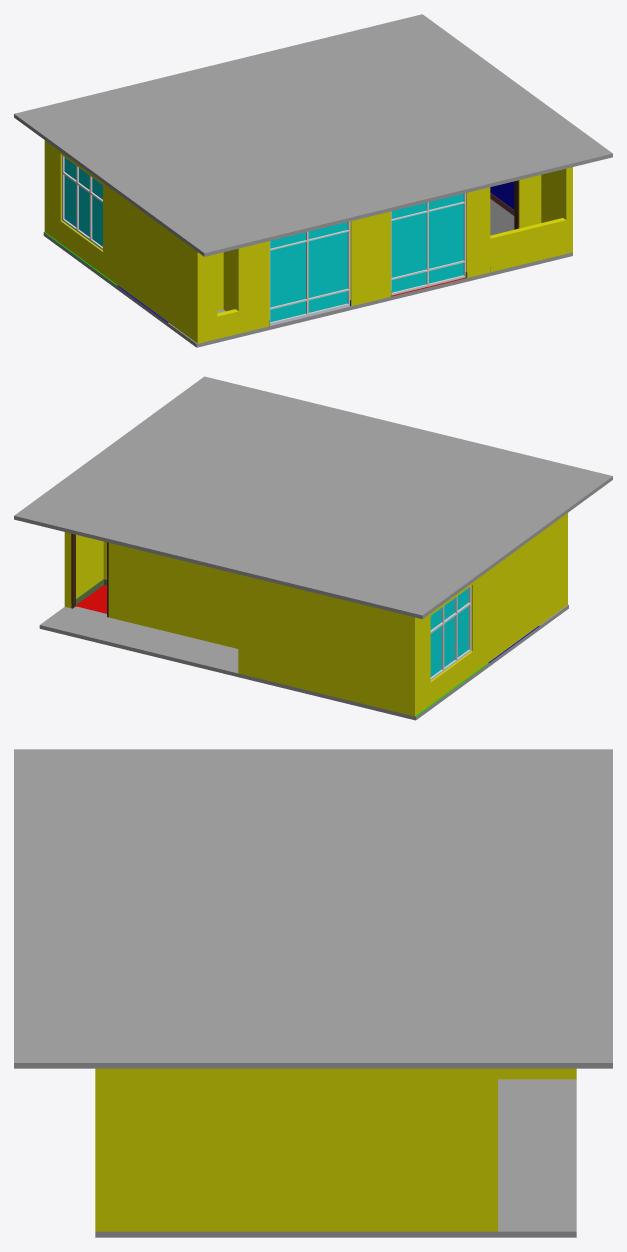
File: Wing_A_Flat_No_04_Type03_MatID.fbx
3 renders of one model, top to bottom at view 1: azimuth 30°, elevation 25°; view 2: azimuth 150°, elevation 25°; view 3: azimuth 270°, elevation 25°, orthographic. The views are drawn at different scales.
Visible parts, largest first — view 1: Roof, walls, Door_Glass1, balacony_door:Door_Glass1, Floor, Flat_No_03_Type03:Glass1, Door_frame_03, balacony_door:Flat_No_03_Type03:Door_frame_03, Flat_No_03_Type03:Window_Frame; view 2: Roof, walls, Floor, Flat_No_03_Type03:Glass1, Flat_No_03_Type03:Window_Frame, pCube12; view 3: Roof, walls, Floor.
Part boxes in pixels (x1,y1,x2,y2): Roof: [14, 14, 612, 256]; walls: [44, 140, 572, 343]; Door_Glass1: [270, 222, 347, 322]; balacony_door:Door_Glass1: [391, 194, 463, 292]; Floor: [43, 199, 572, 347]; Flat_No_03_Type03:Glass1: [64, 157, 102, 246]; Door_frame_03: [269, 221, 350, 325]; balacony_door:Flat_No_03_Type03:Door_frame_03: [391, 193, 466, 295]; Flat_No_03_Type03:Window_Frame: [62, 155, 102, 249]; Roof: [14, 376, 612, 619]; walls: [64, 513, 567, 716]; Floor: [39, 585, 568, 720]; Flat_No_03_Type03:Glass1: [430, 588, 468, 676]; Flat_No_03_Type03:Window_Frame: [430, 585, 471, 680]; pCube12: [71, 533, 108, 617]; Roof: [14, 749, 612, 1068]; walls: [95, 1068, 576, 1231]; Floor: [95, 1079, 576, 1237].
Bounding box in the file's own units: 1146 × 316 × 925.
